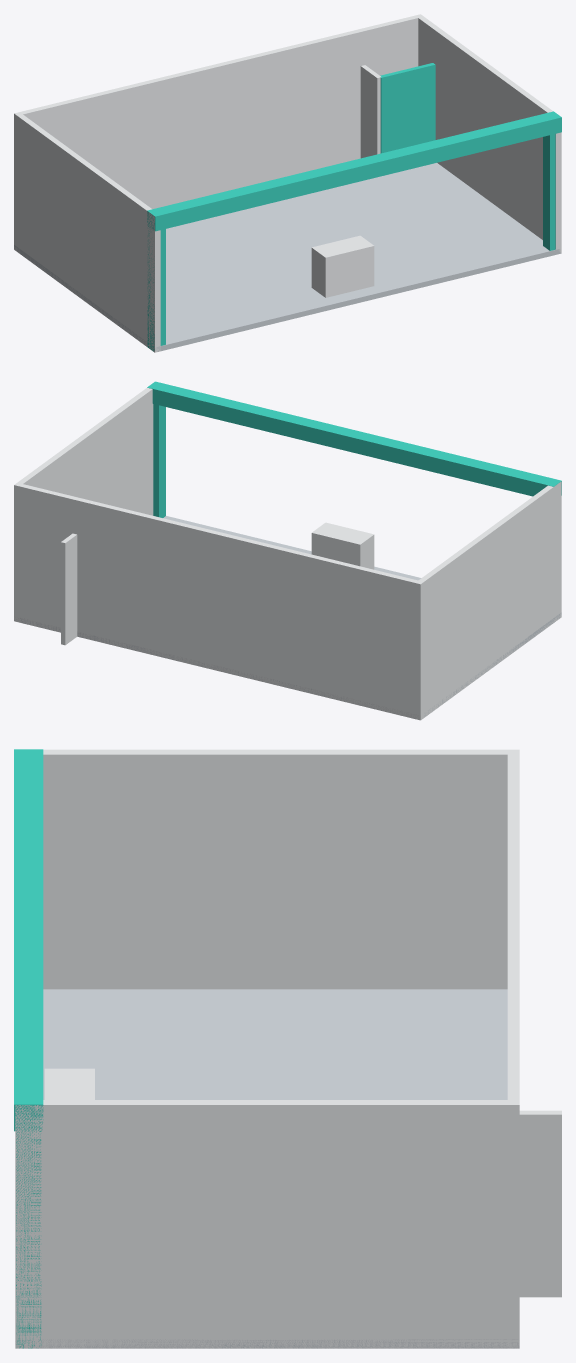
3 renders of one model, top to bottom at view 1: azimuth 30°, elevation 25°; view 2: azimuth 150°, elevation 25°; view 3: azimuth 270°, elevation 25°, orthographic. The views are drawn at different scales.
Parts seen in each view (by area): view 1: Exhibition Booth Concept; view 2: Exhibition Booth Concept; view 3: Exhibition Booth Concept.
Boxes of the visible parts, x1,y1,x2,y2 form: Exhibition Booth Concept: [14, 14, 561, 352]; Exhibition Booth Concept: [14, 381, 561, 720]; Exhibition Booth Concept: [14, 749, 561, 1348].
Size of the model in its own units: 10 by 3.2 by 6.52.
